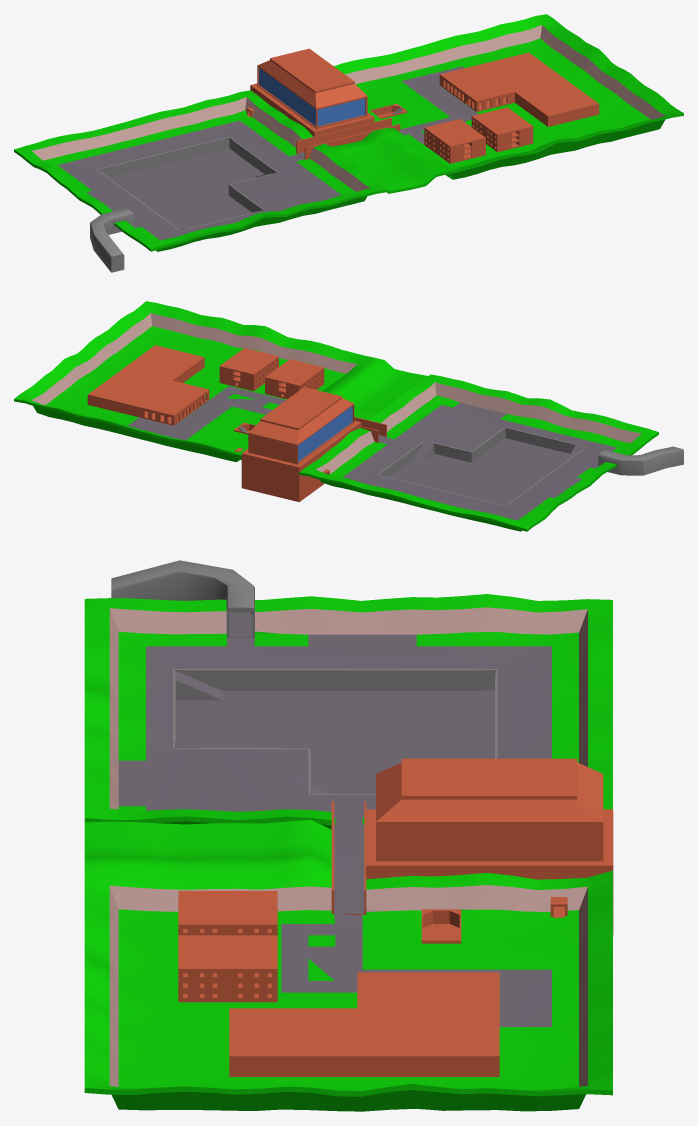
Rendered from CityLiveSector5.fbx.
3 views of the same model, one above another, from view 1: azimuth 30°, elevation 25°; view 2: azimuth 150°, elevation 25°; view 3: azimuth 270°, elevation 25° (orthographic). The views are drawn at different scales.
Parts seen in each view (by area): view 1: Map; view 2: Map; view 3: Map.
Boxes of the visible parts, x1,y1,x2,y2 form: Map: (14, 14, 683, 272); Map: (14, 301, 683, 531); Map: (84, 560, 613, 1111).
Size of the model in its own units: 44240 by 5030 by 18590.
